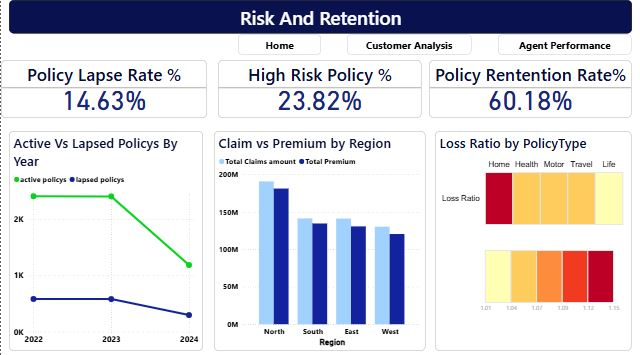

Layout of this report page (visuals, bound fields, positions):
{"tool":"powerbi","page":{"name":"Risk and Retention","canvas":[1280,720],"ordinal":4},"visuals":[{"type":"lineChart","title":"Active Vs Lapsed Policys By Year","fields":{"Y":["Fact_Policies.active policys","Fact_Policies.lapsed policys"],"Category":["Fact_Policies.StartDate.Variation.Date Hierarchy.Year"]},"box":[15.1,262,388,440.1],"z":0},{"type":"clusteredColumnChart","title":"Claim vs Premium by Region","fields":{"Category":["Dim_Agent.Region"],"Y":["Fact_Claims.Total Claims","Fact_Premiums.Total Premium"]},"box":[426.7,262,423.3,440.1],"z":1000},{"type":"TableHeatMap1443716069308","fields":{"Category":["Dim_Policy.PolicyType"],"Y":["Fact_Premiums.Loss Ratio"]},"box":[868.5,262,393.1,440.1],"z":2000},{"type":"card","title":"Policy Lapse Rate %","fields":{"Values":["Fact_Policies.Policy lapse Rate"]},"box":[0,120.9,411.5,115.9],"z":3000},{"type":"card","title":"High Risk Policy %","fields":{"Values":["Fact_Policies.high risk policy %"]},"box":[433.4,120.9,406.5,115.9],"z":4000},{"type":"card","title":"Policy Rentention Rate%","fields":{"Values":["Fact_Policies.Policy Retention Rate %"]},"box":[856.7,120.9,404.8,115.9],"z":5000},{"type":"textbox","box":[15.1,0,1246.4,67.2],"z":6000},{"type":"actionButton","title":"Home","box":[473.7,67.2,166.3,42],"z":7000},{"type":"actionButton","title":"Home","box":[692.1,67.2,248.6,42],"z":8000},{"type":"actionButton","title":"Home","box":[994.4,67.2,267.1,42],"z":9000}]}

Visuals, with their boxes in screenshot pixels (x1, y1, x2, y2), scaled from the page's 1280x720 canvas onto the 640x355 screenshot:
"Active Vs Lapsed Policys By Year" lineChart: select_region(8, 129, 202, 346)
"Claim vs Premium by Region" clusteredColumnChart: select_region(213, 129, 425, 346)
TableHeatMap1443716069308 - Dim_Policy.PolicyType x Fact_Premiums.Loss Ratio: select_region(434, 129, 631, 346)
"Policy Lapse Rate %" card: select_region(0, 60, 206, 117)
"High Risk Policy %" card: select_region(217, 60, 420, 117)
"Policy Rentention Rate%" card: select_region(428, 60, 631, 117)
textbox: select_region(8, 0, 631, 33)
"Home" actionButton: select_region(237, 33, 320, 54)
"Home" actionButton: select_region(346, 33, 470, 54)
"Home" actionButton: select_region(497, 33, 631, 54)
